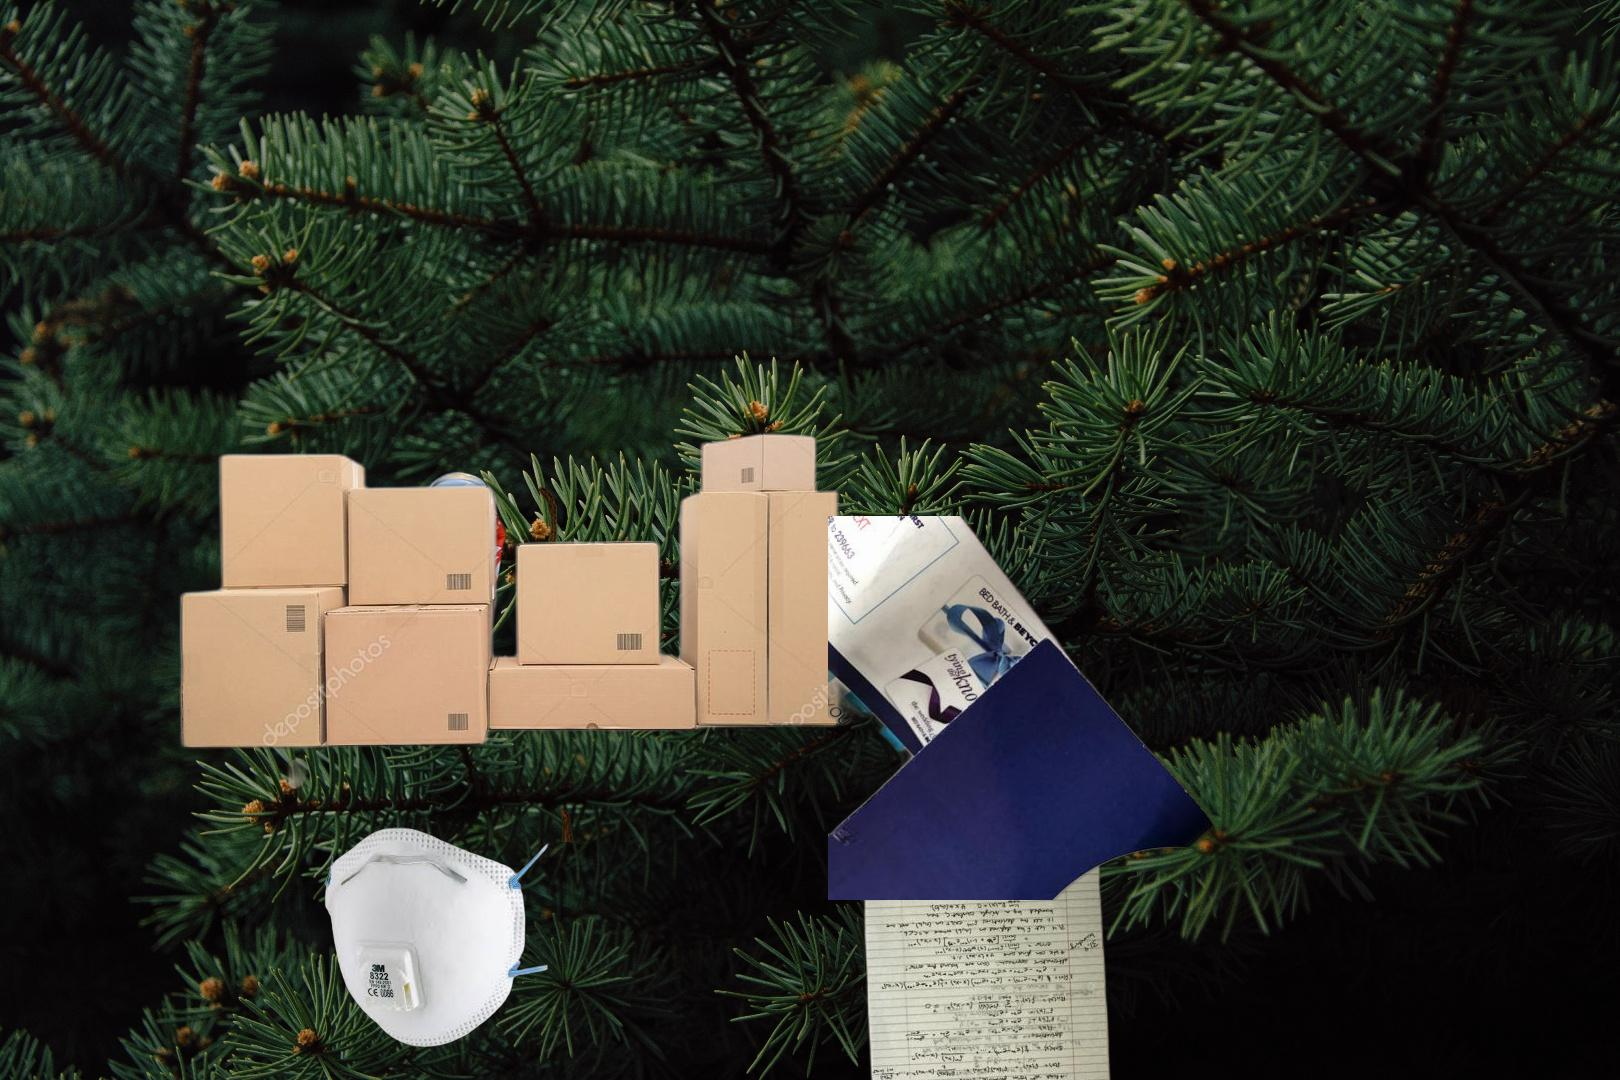metal-cans: (378, 33, 794, 640)
paper: (828, 516, 1219, 900), (856, 830, 1119, 1080)
trash: (324, 827, 553, 1047)
trashbox-cardboard: (170, 428, 849, 755), (280, 485, 579, 843)
